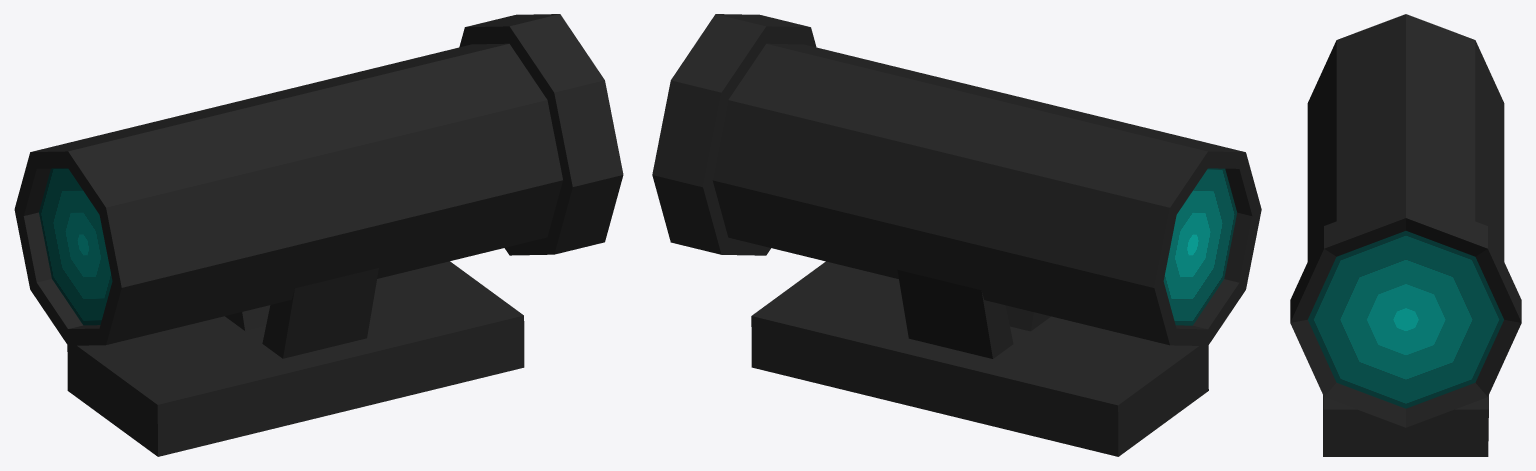
File: Accessories_Scope_A.FBX
3 renders of one model, left to right at view 1: azimuth 30°, elevation 25°; view 2: azimuth 150°, elevation 25°; view 3: azimuth 270°, elevation 25°, orthographic. The views are drawn at different scales.
Parts seen in each view (by area): view 1: Accessories_Scope_A; view 2: Accessories_Scope_A; view 3: Accessories_Scope_A.
Part boxes in pixels (x1,y1,x2,y2): Accessories_Scope_A: (14, 14, 623, 456); Accessories_Scope_A: (652, 14, 1261, 456); Accessories_Scope_A: (1290, 14, 1521, 456).
Size of the model in its own units: 45.75 by 26.7 by 20.36.
